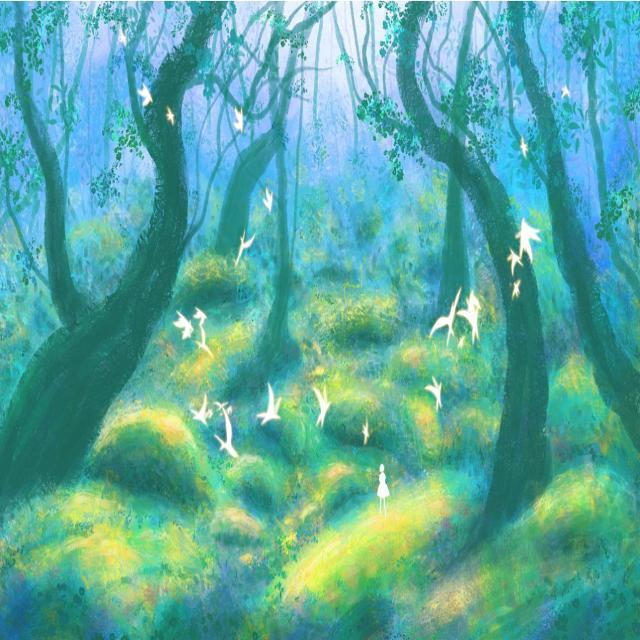bird: (434, 281, 459, 342), (257, 385, 284, 427), (314, 387, 334, 429), (134, 84, 154, 112), (237, 235, 257, 262), (235, 94, 248, 132), (118, 24, 134, 54), (194, 305, 214, 328), (264, 186, 278, 216), (163, 105, 178, 132), (362, 416, 374, 445)
